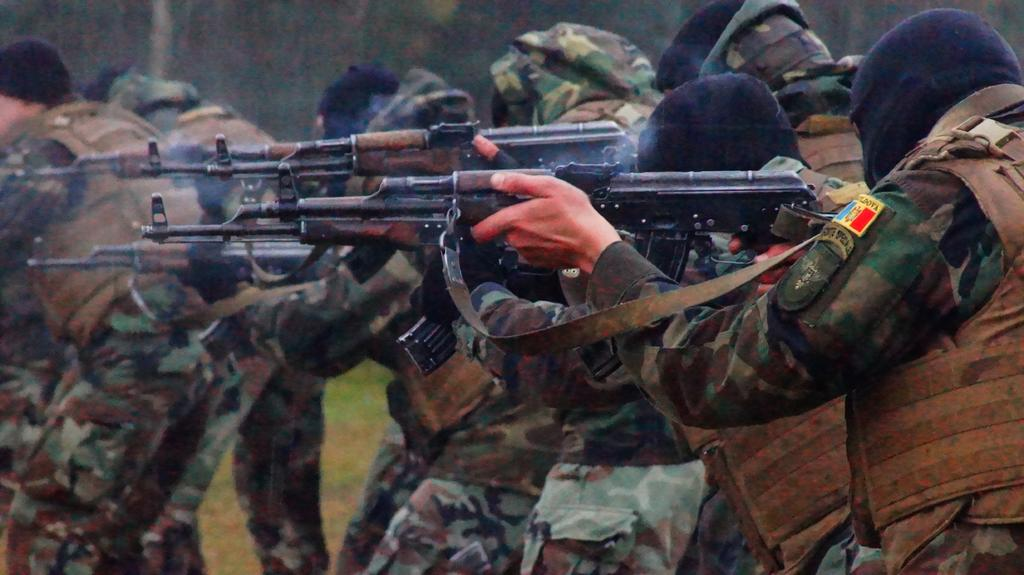Rifle: (241, 135, 826, 381), (141, 123, 637, 286), (28, 236, 344, 366), (28, 141, 216, 222), (230, 141, 296, 203)
